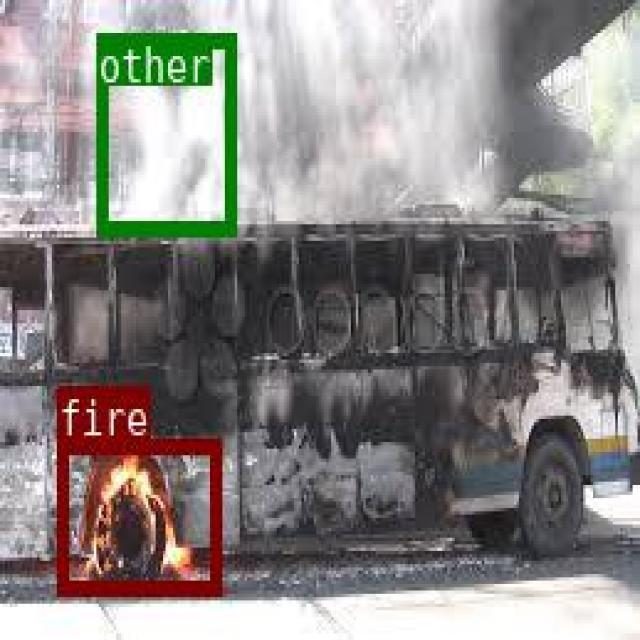fire: (55, 437, 217, 591)
